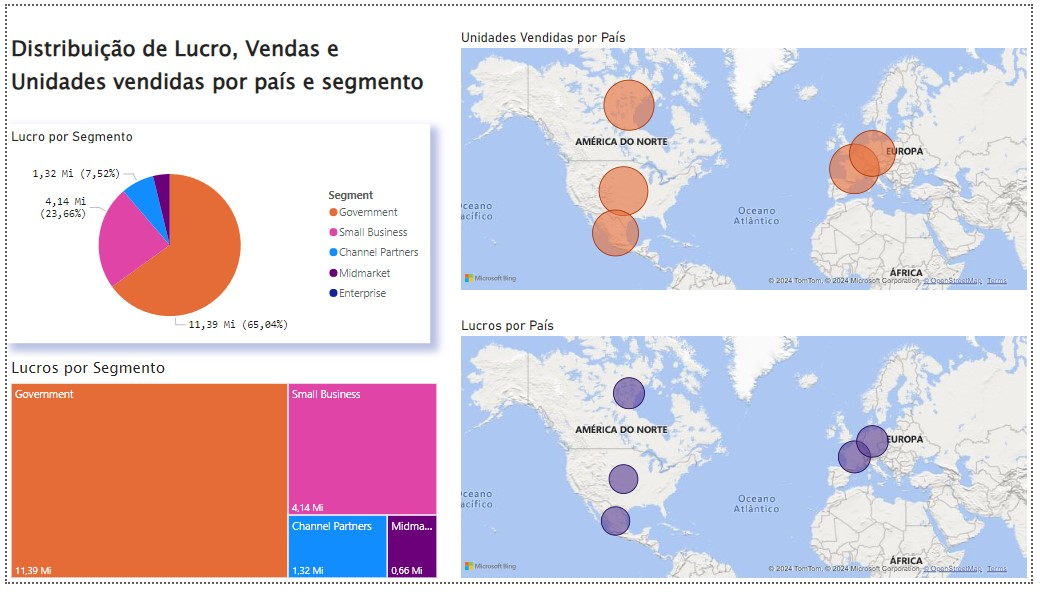

This screenshot's page, from the dashboard's own definition file:
{"tool":"powerbi","page":{"name":"Página 3","canvas":[1280,720],"ordinal":2},"visuals":[{"type":"pieChart","title":"Lucro por Segmento","fields":{"Y":["Sum(financials.Profit)"],"Category":["financials.Segment"]},"box":[0,147.5,528.8,273.8],"z":0},{"type":"textbox","box":[0,452,465,268],"z":1},{"type":"textbox","box":[0,28.8,542.5,106.2],"z":2},{"type":"treemap","title":"Lucros por Segmento","fields":{"Values":["Sum(financials.Profit)"],"Group":["financials.Segment"]},"box":[0,438.8,542.5,281.2],"z":3},{"type":"map","title":"Unidades Vendidas por País","fields":{"Size":["Sum(financials.Units Sold)"],"Category":["financials.Country"]},"box":[562.5,28.8,717.5,331.2],"z":4},{"type":"map","title":"Lucros por País","fields":{"Category":["financials.Country"],"Size":["Sum(financials.Profit)"]},"box":[562.5,388.8,717.5,331.2],"z":5}]}

Visuals, with their boxes in screenshot pixels (x1, y1, x2, y2), scaled from the page's 1280x720 canvas onto the 1040x594 screenshot:
"Lucro por Segmento" pieChart: <bbox>0, 122, 430, 348</bbox>
textbox: <bbox>0, 373, 378, 593</bbox>
textbox: <bbox>0, 24, 441, 111</bbox>
"Lucros por Segmento" treemap: <bbox>0, 362, 441, 593</bbox>
"Unidades Vendidas por País" map: <bbox>457, 24, 1039, 297</bbox>
"Lucros por País" map: <bbox>457, 321, 1039, 593</bbox>
